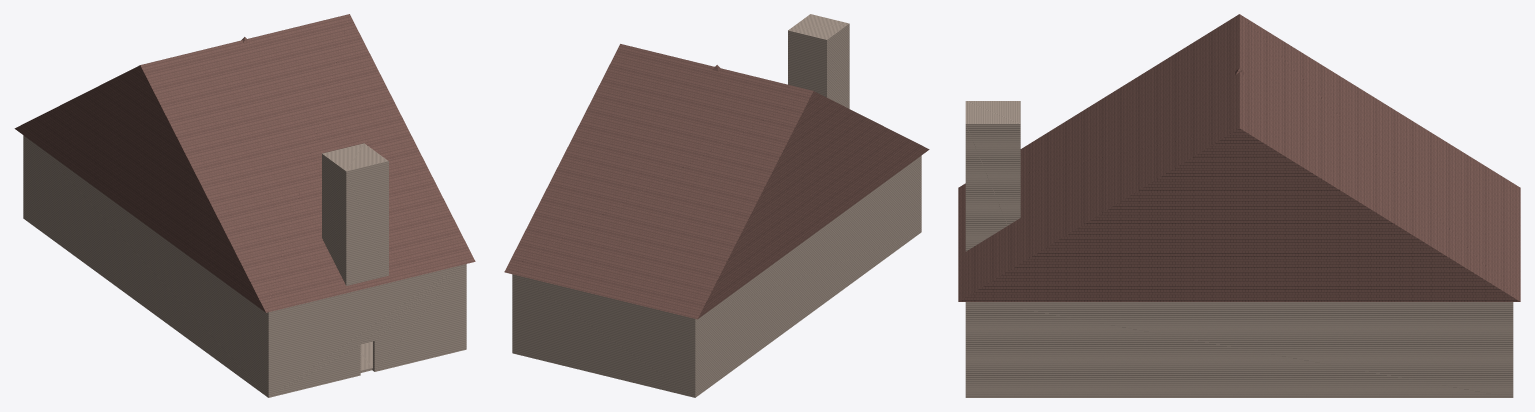
The model's file is church.glb.
3 views of the same model, side by side, from view 1: azimuth 30°, elevation 25°; view 2: azimuth 150°, elevation 25°; view 3: azimuth 270°, elevation 25° (orthographic). The views are drawn at different scales.
Parts seen in each view (by area): view 1: church-col; view 2: church-col; view 3: church-col.
Part boxes in pixels (box(x1,y1,x2,y2)): church-col: box(14, 14, 475, 397); church-col: box(504, 14, 929, 397); church-col: box(958, 14, 1520, 397).
Size of the model in its own units: 14.8 by 16.7 by 30.8.
2 materials, 2 textured.
